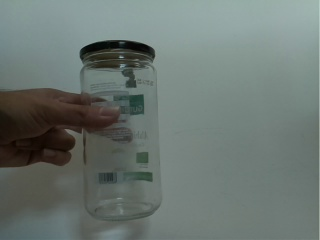pote cristal: (74, 38, 169, 222)
